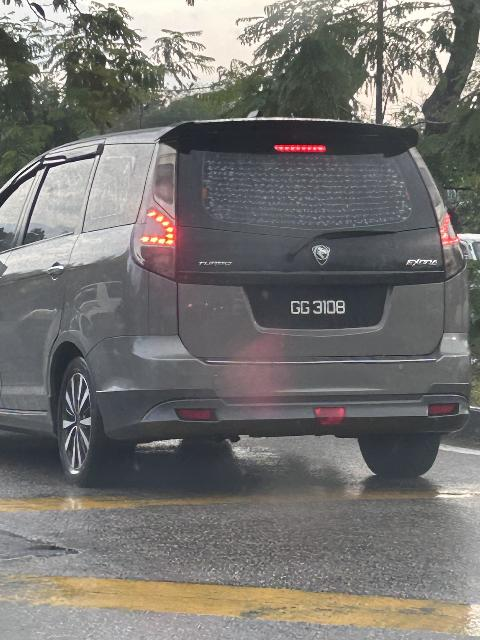License_Plate: (252, 288, 384, 328)
car: (1, 110, 480, 497)
